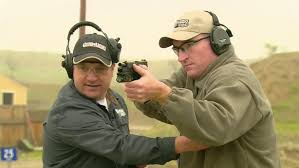Gun: (116, 60, 147, 80)
